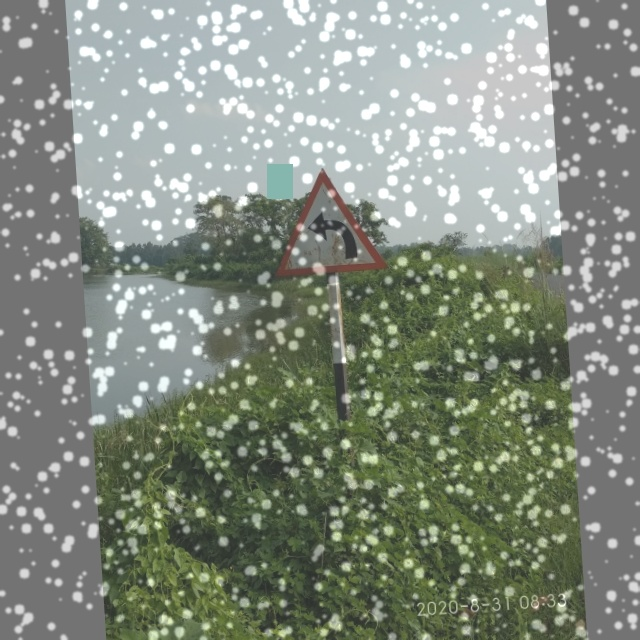Left_Hand_Curve: (263, 162, 389, 282)
